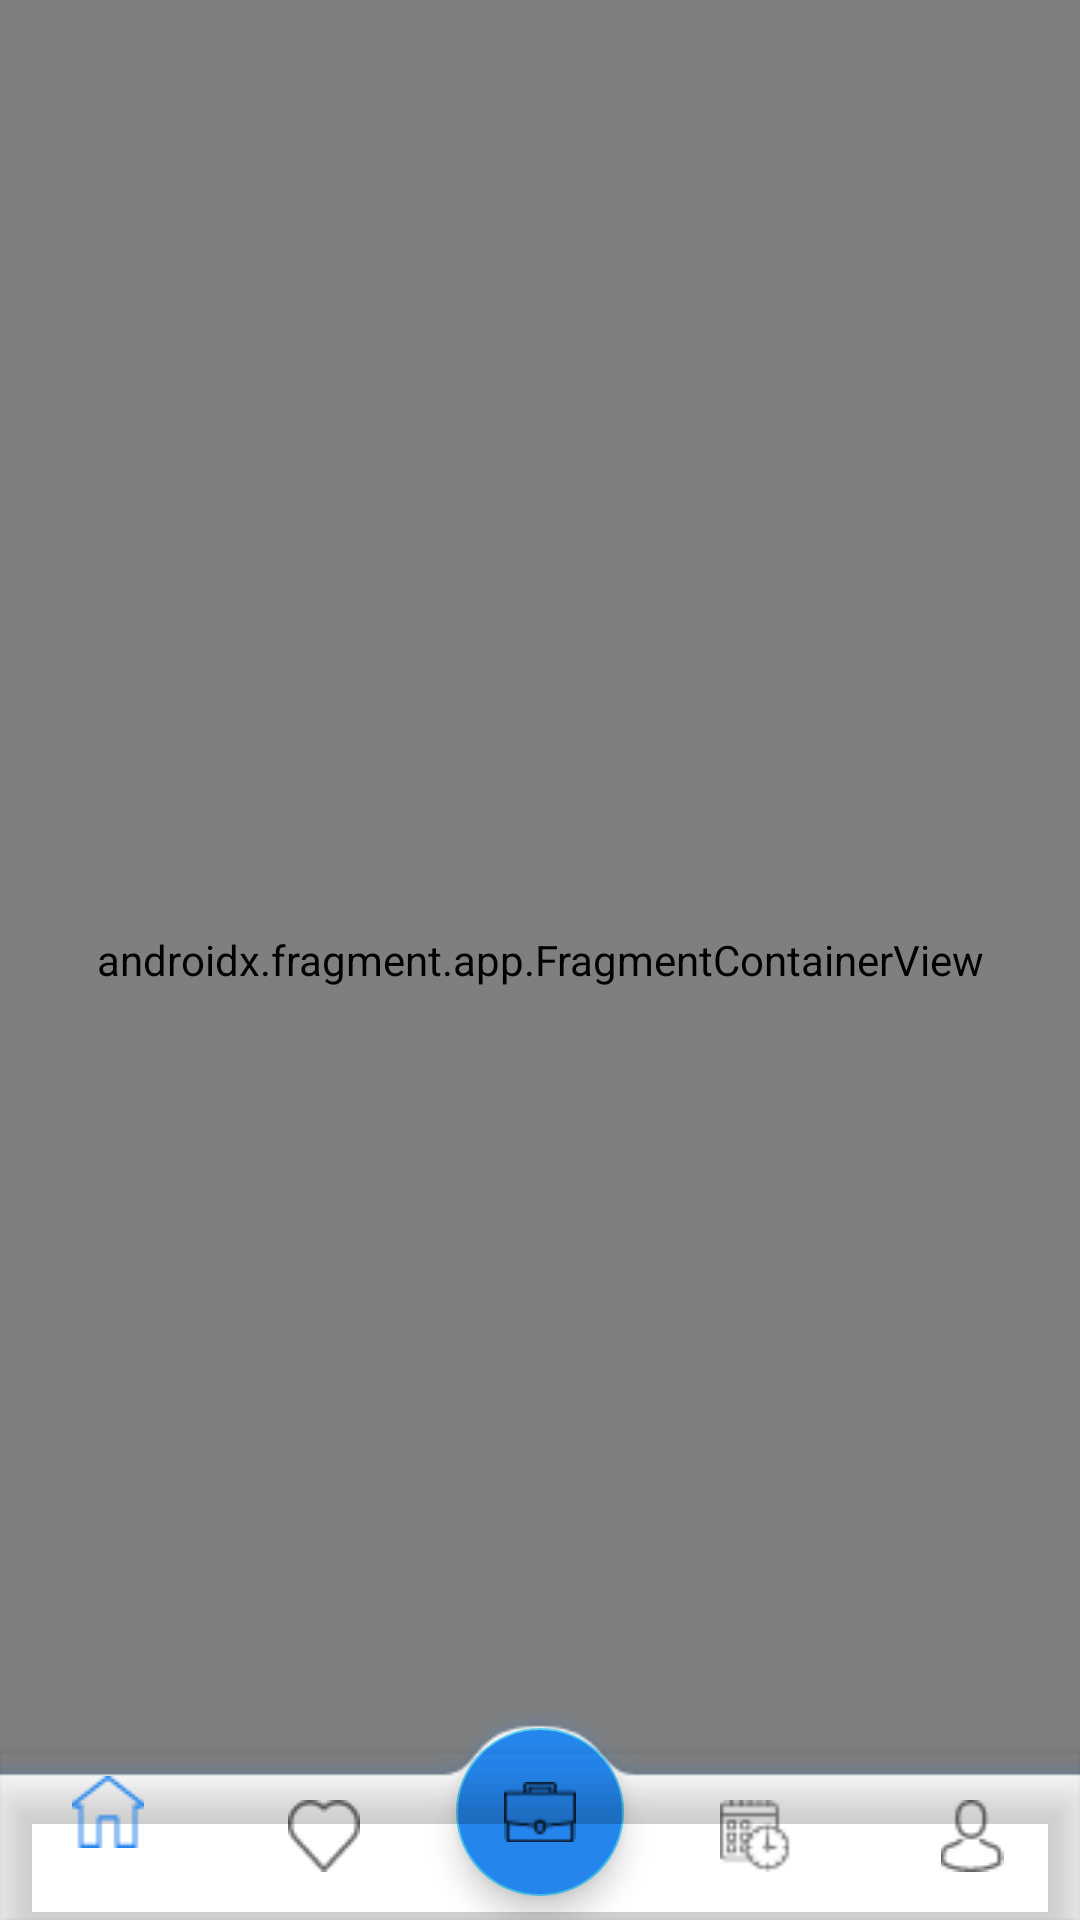

Icons on this 1080 × 1920 Android screen, each with the point to tap as [x,y]:
work: [540,1812]
